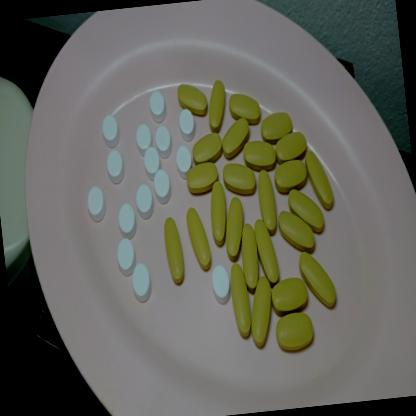Paracetamol: (129, 260, 154, 306), (114, 196, 138, 242), (208, 262, 232, 308), (84, 180, 108, 224), (172, 142, 194, 186), (114, 236, 137, 278), (174, 104, 198, 144), (133, 180, 155, 220), (147, 85, 169, 124), (152, 167, 173, 206), (132, 120, 154, 157), (140, 144, 162, 181), (99, 111, 121, 147), (104, 148, 126, 184), (153, 123, 173, 159)
VitaminB: (297, 246, 338, 313), (302, 141, 338, 212), (244, 274, 276, 350), (226, 260, 254, 346), (184, 202, 213, 280), (286, 184, 326, 240), (160, 212, 188, 290), (252, 212, 280, 288), (271, 312, 317, 358), (220, 194, 250, 260), (276, 204, 314, 254), (236, 218, 262, 290), (204, 178, 230, 249), (268, 274, 311, 316), (202, 73, 231, 134), (268, 155, 310, 197), (218, 115, 255, 162), (188, 128, 225, 172), (271, 124, 311, 164), (256, 104, 294, 146), (226, 85, 264, 126), (174, 76, 208, 120), (254, 168, 277, 233), (183, 157, 221, 196), (220, 158, 258, 196), (241, 136, 278, 172)
